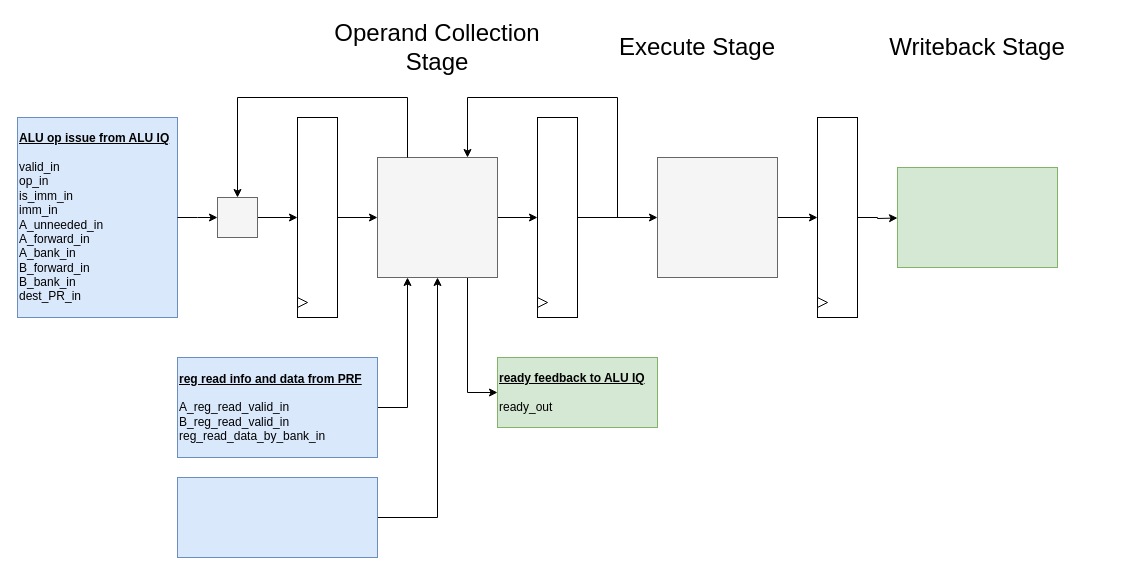
Image size: 1135x575. Some labels were removed from this diagram. The centre of each missing label's shape, as x and y in pixels:
"forward data from PRF forward_data_by_bank_in" belongs at [277,517].
"writeback data to PRF WB_valid_out WB_data_out WB_PR_out" belongs at [977,217].
